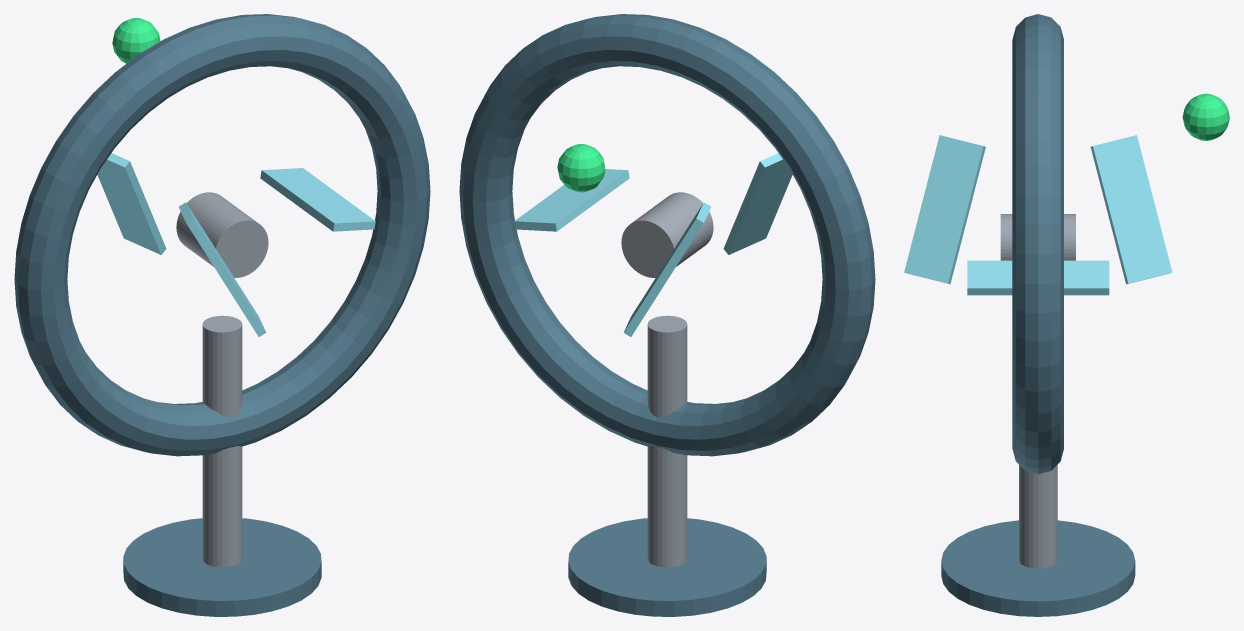
The model's file is fan.glb.
The picture shows the model from 3 angles, left to right: view 1: azimuth 30°, elevation 25°; view 2: azimuth 150°, elevation 25°; view 3: azimuth 270°, elevation 25°; orthographic projection. The views are drawn at different scales.
Parts seen in each view (by area): view 1: FanBody, Base, Stand, Hub, Blade0, Blade1, Blade2, Beacon; view 2: FanBody, Base, Stand, Hub, Blade2, Blade0, Beacon, Blade1; view 3: FanBody, Base, Blade2, Blade1, Stand, Blade0, Beacon, Hub.
Boxes of the visible parts, x1=… form: FanBody: x1=14, y1=14, x2=430, y2=456; Base: x1=123, y1=518, x2=321, y2=616; Stand: x1=202, y1=315, x2=242, y2=567; Hub: x1=176, y1=192, x2=268, y2=277; Blade0: x1=260, y1=168, x2=375, y2=231; Blade1: x1=97, y1=153, x2=166, y2=254; Blade2: x1=179, y1=202, x2=266, y2=336; Beacon: x1=112, y1=18, x2=160, y2=63; FanBody: x1=459, y1=14, x2=875, y2=456; Base: x1=568, y1=518, x2=766, y2=616; Stand: x1=647, y1=315, x2=687, y2=567; Hub: x1=621, y1=192, x2=713, y2=277; Blade2: x1=723, y1=153, x2=792, y2=254; Blade0: x1=514, y1=169, x2=629, y2=231; Beacon: x1=557, y1=144, x2=605, y2=192; Blade1: x1=623, y1=202, x2=710, y2=336; FanBody: x1=1012, y1=14, x2=1063, y2=474; Base: x1=941, y1=520, x2=1135, y2=616; Blade2: x1=904, y1=135, x2=985, y2=284; Blade1: x1=1090, y1=135, x2=1172, y2=284; Stand: x1=1019, y1=465, x2=1057, y2=568; Blade0: x1=967, y1=260, x2=1109, y2=295; Beacon: x1=1182, y1=93, x2=1229, y2=140; Hub: x1=1000, y1=214, x2=1075, y2=260.
Size of the model in its own units: 2.14 by 2.77 by 1.51.
